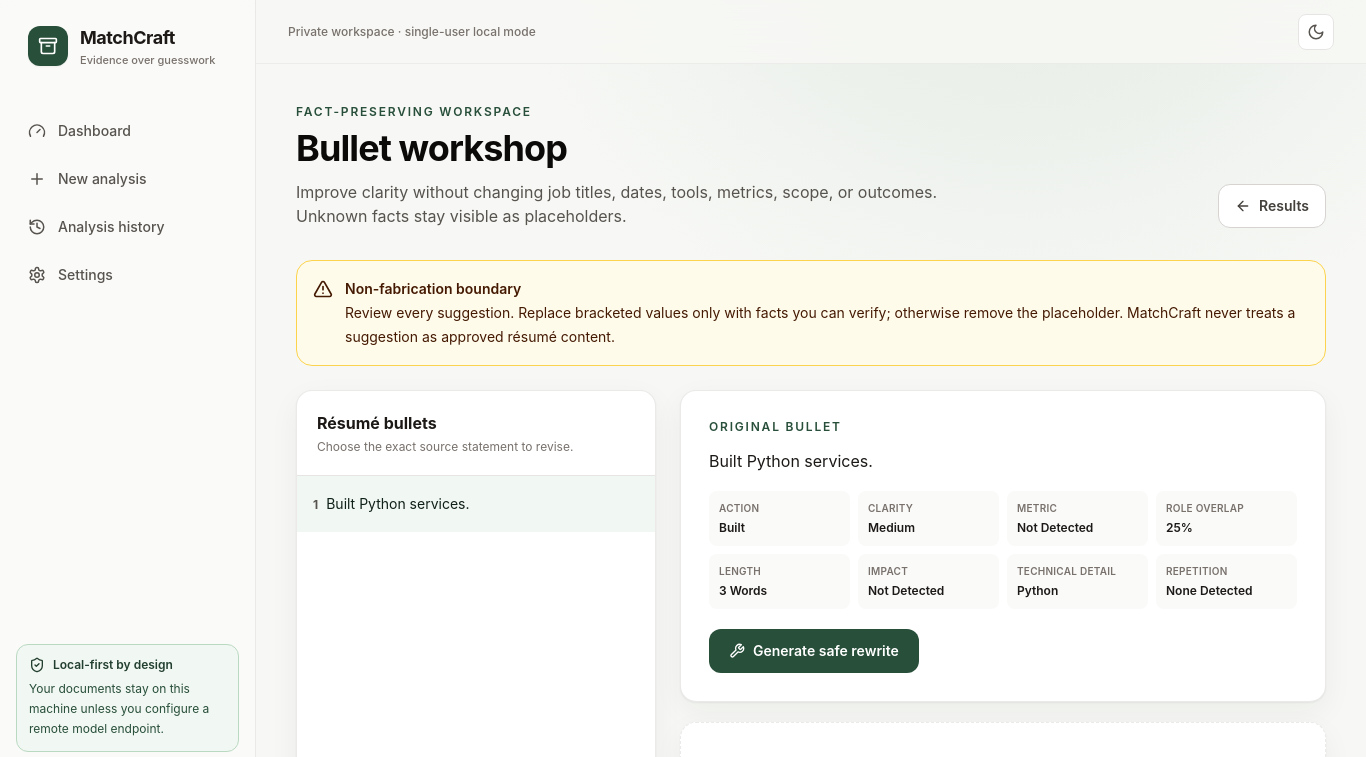
bullet workshop and history › marks rewrite placeholders and confirmation requirements
The width and height of the screenshot is (1366, 757).
Expected: the text "Role overlap" is shown, [1166, 502, 1244, 514]
Expected: the text "25%" is shown, [1166, 520, 1193, 535]
Click the button "Generate safe rewrite".
click(814, 651)  # box [709, 629, 919, 673]
(page scrolled)
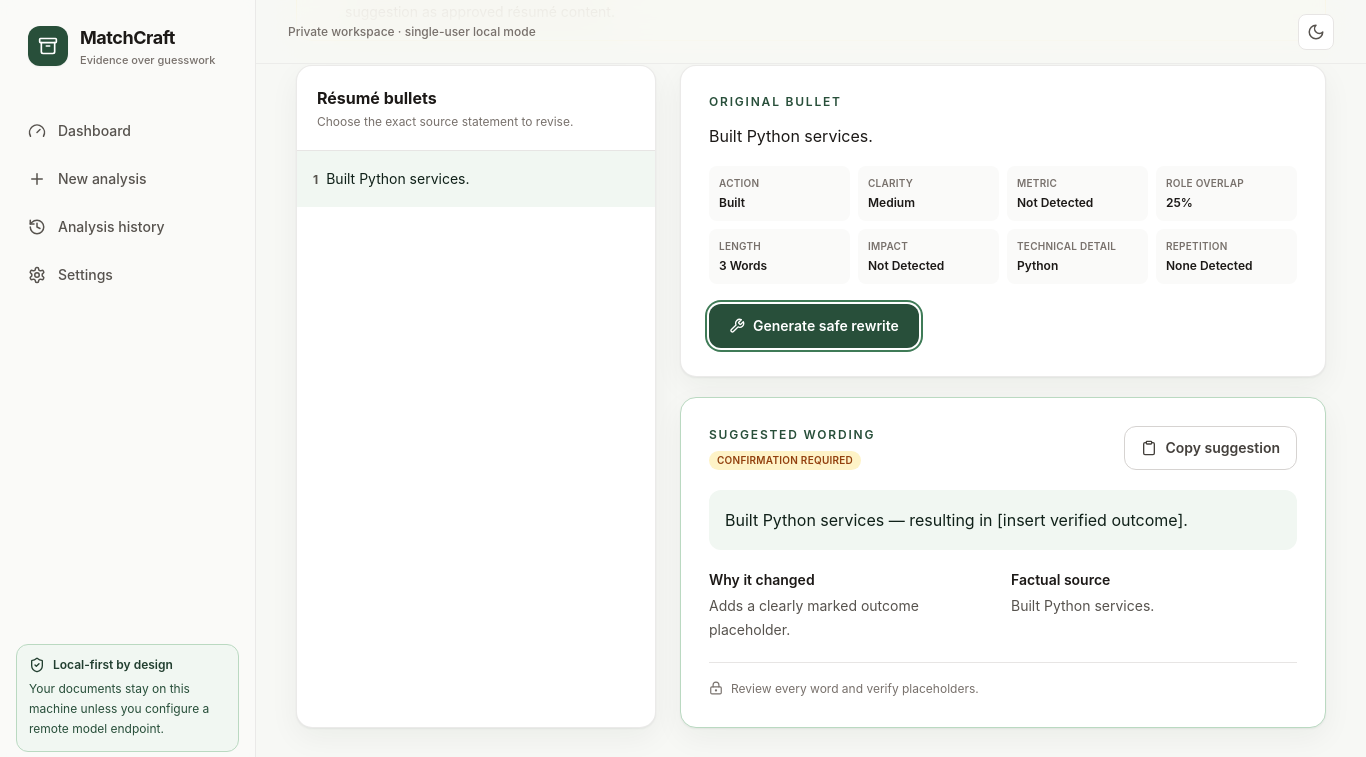
Now the text "insert verified outcome" is shown, box [725, 510, 1188, 530]
Now the text "confirmation required" is shown, box [709, 450, 861, 470]
Now the text "Review every word and verify placeholders." is shown, box [709, 662, 1297, 699]
